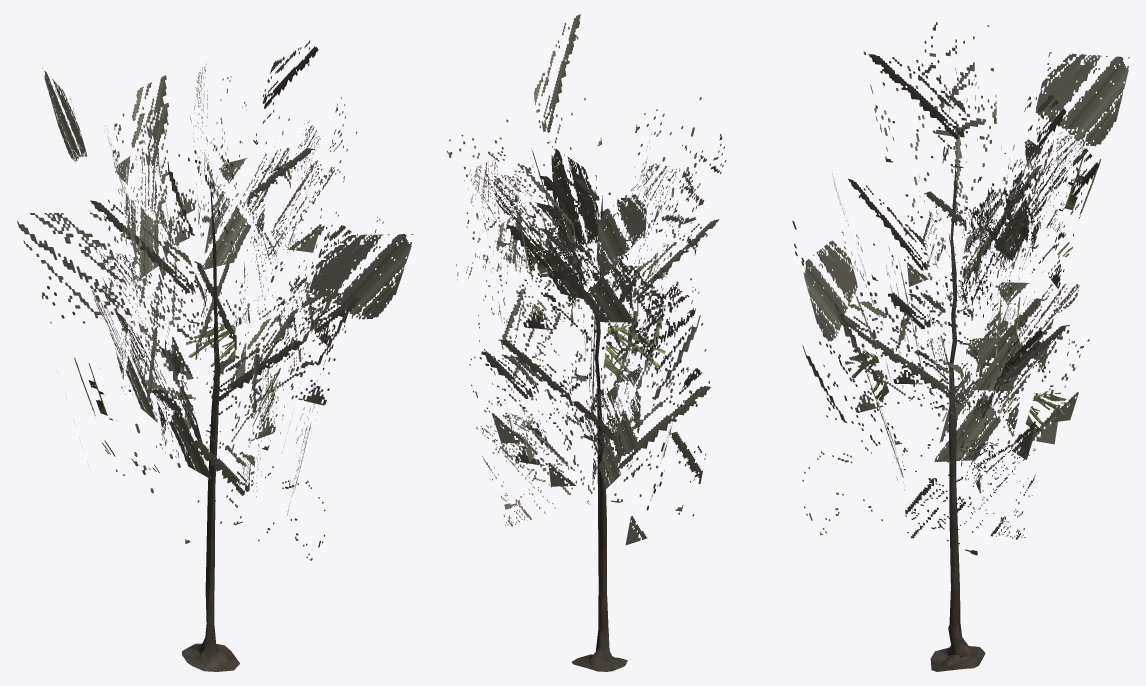
Rendered from pine-far.glb.
3 views of the same model, side by side, from view 1: azimuth 30°, elevation 25°; view 2: azimuth 150°, elevation 25°; view 3: azimuth 270°, elevation 25° (orthographic). The views are drawn at different scales.
Bounding box in the file's own units: 7.91 × 16.02 × 8.17.
2 materials, 2 textured.
